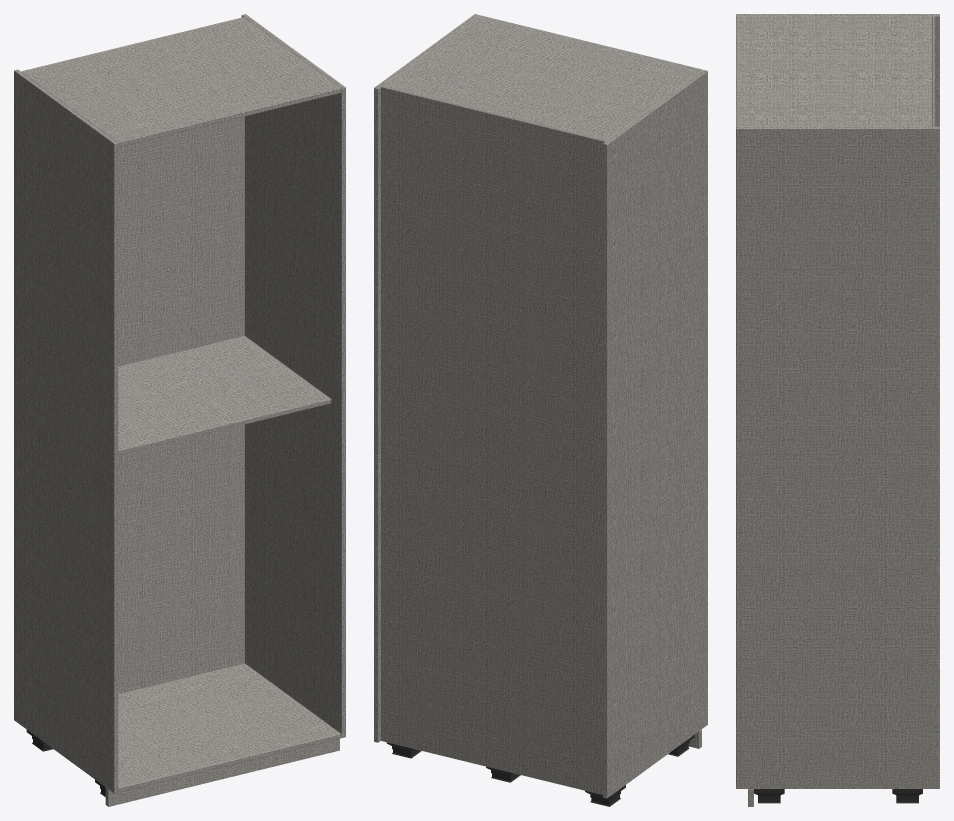
The model's file is cbib12140.gltf.
3 views of the same model, side by side, from view 1: azimuth 30°, elevation 25°; view 2: azimuth 150°, elevation 25°; view 3: azimuth 270°, elevation 25° (orthographic).
Visible parts, largest first — view 1: CBIB12140; view 2: CBIB12140; view 3: CBIB12140.
Boxes of the visible parts, x1,y1,x2,y2 form: CBIB12140: [14, 14, 345, 806]; CBIB12140: [374, 14, 707, 806]; CBIB12140: [736, 14, 939, 806].
Size of the model in its own units: 0.8 by 2.2 by 0.6.
3 materials, 2 textured.
